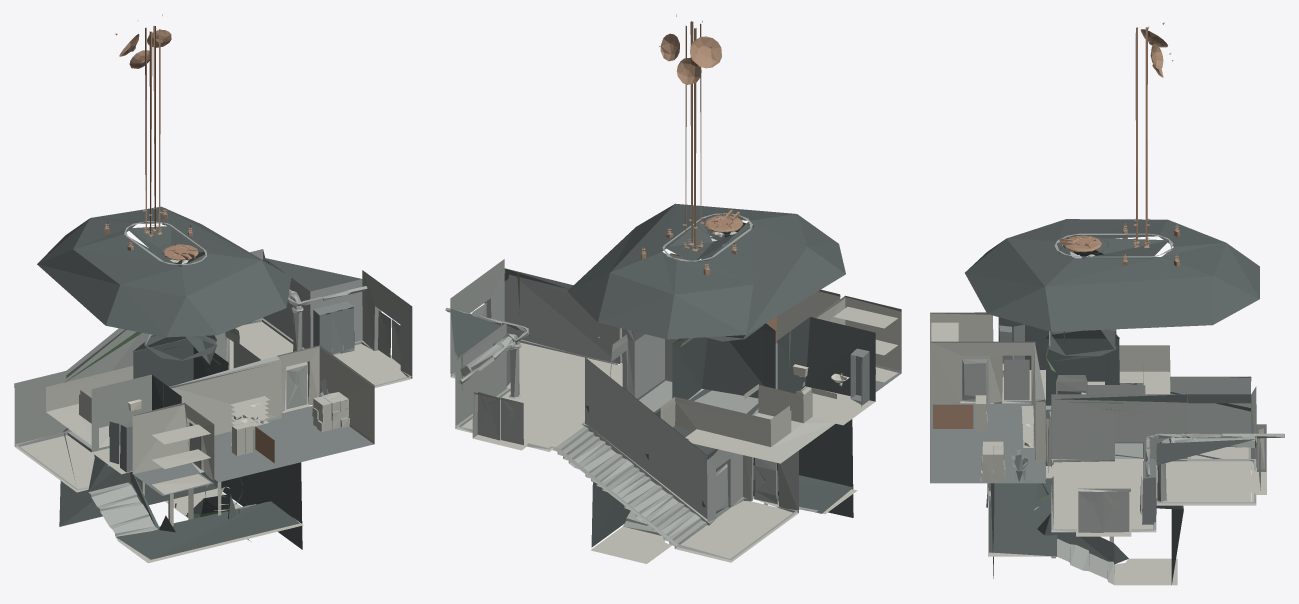
Rendered from entrance_bunker_a.glb.
The picture shows the model from 3 angles, left to right: view 1: azimuth 30°, elevation 25°; view 2: azimuth 150°, elevation 25°; view 3: azimuth 270°, elevation 25°; orthographic projection. The views are drawn at different scales.
Visible parts, largest first — view 1: stairwell_top_country_a_LOD0, ground_cloth_a_LOD0, stairwell_top_country_b_LOD0; view 2: stairwell_top_country_a_LOD0, ground_cloth_a_LOD0, stairwell_top_country_b_LOD0; view 3: stairwell_top_country_a_LOD0, ground_cloth_a_LOD0, stairwell_top_country_b_LOD0.
Boxes of the visible parts, x1=… form: stairwell_top_country_a_LOD0: x1=14, y1=26, x2=412, y2=559; ground_cloth_a_LOD0: x1=14, y1=259, x2=411, y2=563; stairwell_top_country_b_LOD0: x1=109, y1=301, x2=373, y2=495; stairwell_top_country_a_LOD0: x1=445, y1=21, x2=901, y2=559; ground_cloth_a_LOD0: x1=450, y1=231, x2=901, y2=563; stairwell_top_country_b_LOD0: x1=506, y1=332, x2=901, y2=518; stairwell_top_country_a_LOD0: x1=930, y1=22, x2=1284, y2=584; ground_cloth_a_LOD0: x1=930, y1=251, x2=1266, y2=585; stairwell_top_country_b_LOD0: x1=930, y1=324, x2=1156, y2=524.
Size of the model in its own units: 18.75 by 27.83 by 16.85.
